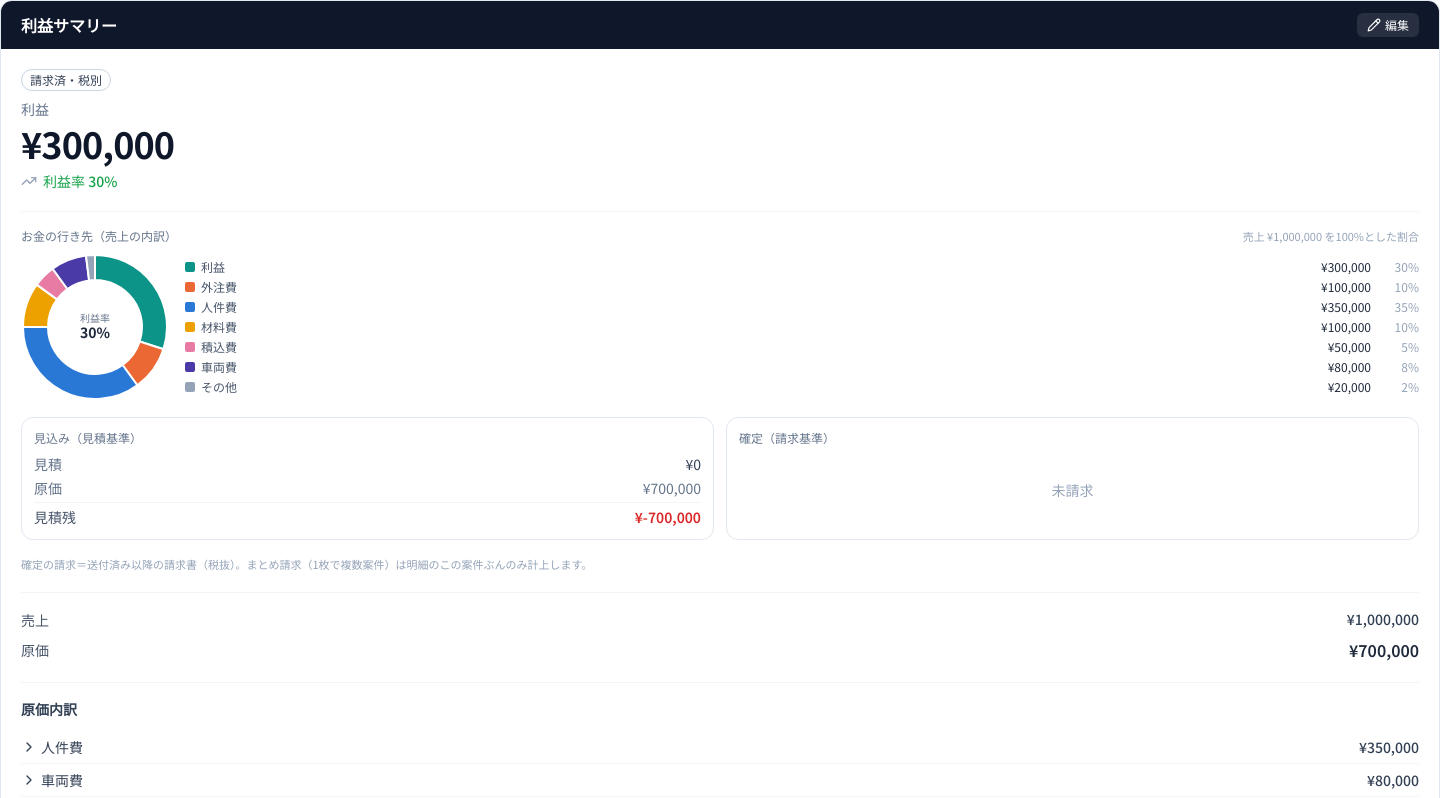
Test: ProjectProfitDisplay › 編集モードで車両費・外注費の明細が自動展開され、行ごとに編集できる
The image size is (1440, 798).
Expected: the heading "利益サマリー" is shown, top-left (21, 13), bottom-right (117, 37)
Expected: the field showing "3000" is not shown
Click the button "編集" at [1388, 25], box top-left (1357, 13), bottom-right (1419, 37)
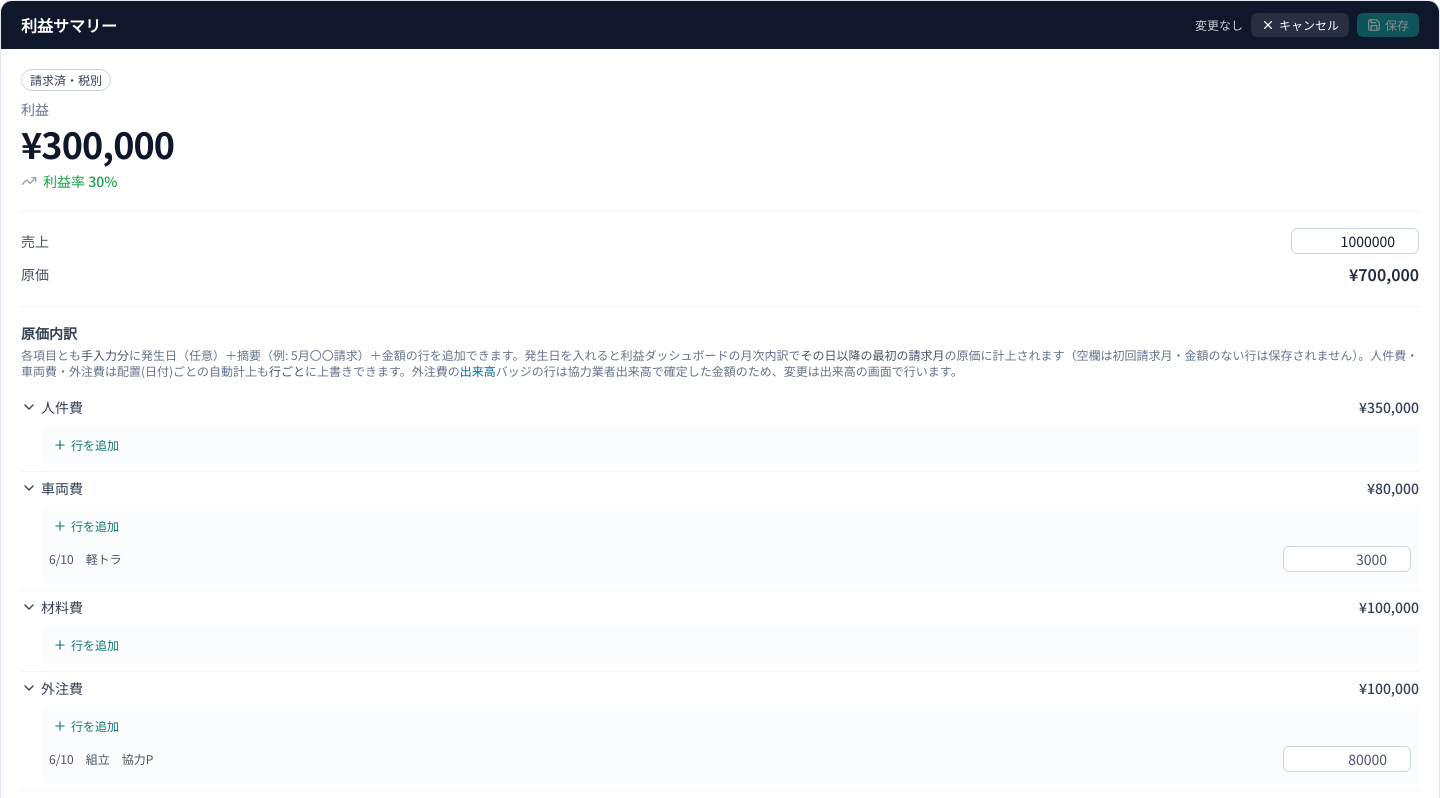
Expected: the number field showing "3000" in the row of "軽トラ" is shown, top-left (1283, 546), bottom-right (1411, 572)
Expected: the number field showing "80000" in the row of "協力P" is shown, top-left (1283, 746), bottom-right (1411, 772)
Expected: the text "6/10 軽トラ" is shown, top-left (49, 550), bottom-right (122, 567)
